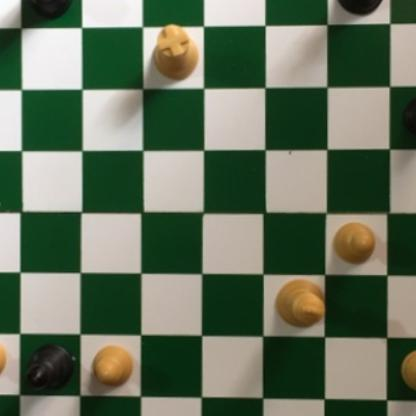black-bishop: (22, 337, 76, 392)
black-king: (335, 0, 394, 18)
black-pawn: (402, 93, 416, 139)
black-rook: (21, 0, 75, 17)
white-king: (273, 276, 328, 330)
white-pawn: (88, 340, 132, 388), (330, 220, 374, 266), (398, 347, 416, 395), (0, 335, 9, 378)
white-rook: (150, 21, 201, 84)
